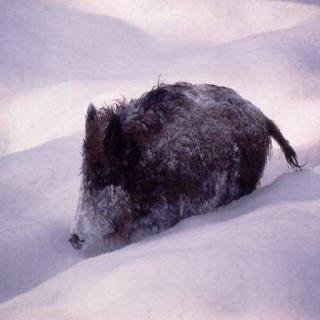Pig: (45, 62, 308, 271)
